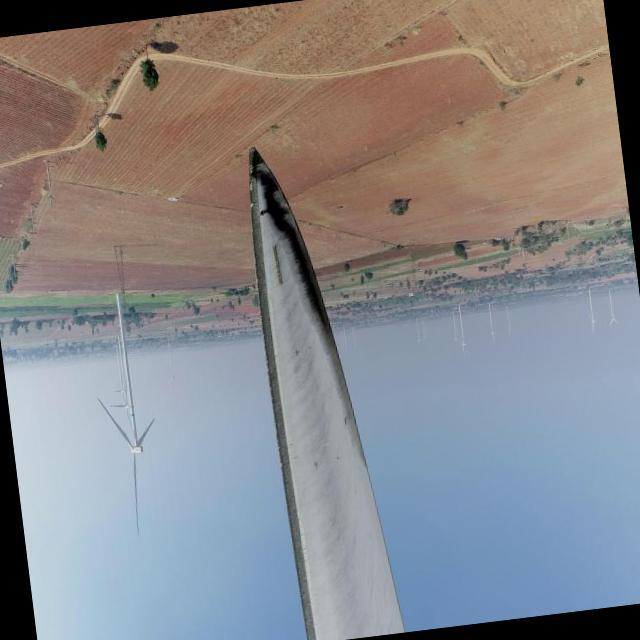Dirt: (250, 144, 406, 639)
Oil LEAKAGE: (246, 143, 333, 337)
Pin Hole: (258, 207, 268, 220)
